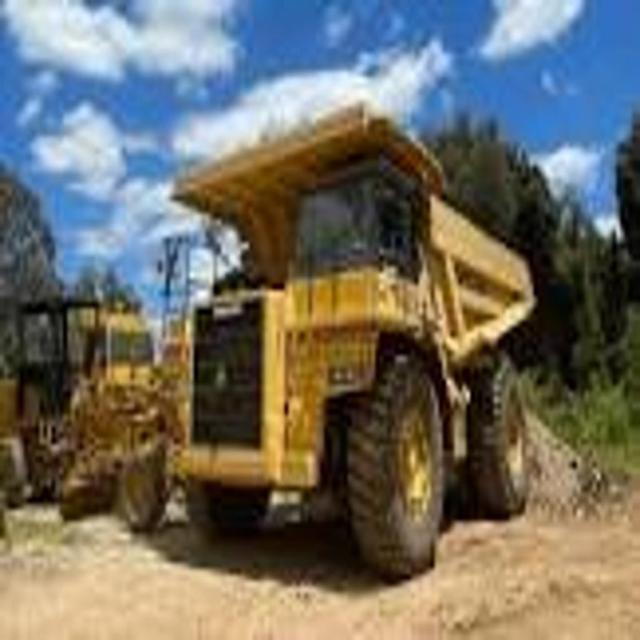dump_truck: (172, 91, 545, 590)
